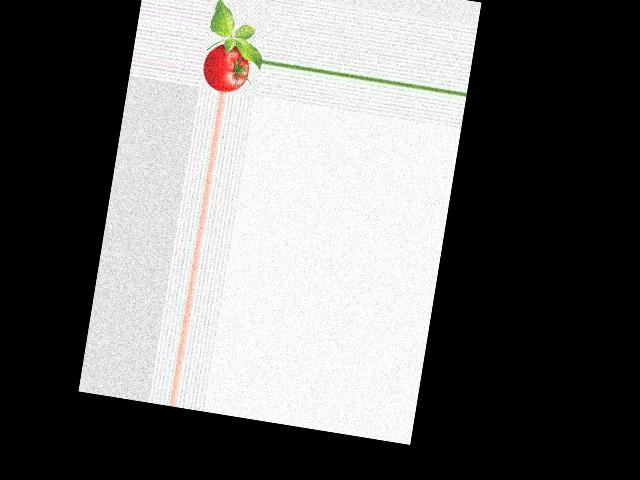tomato: (199, 41, 252, 95)
